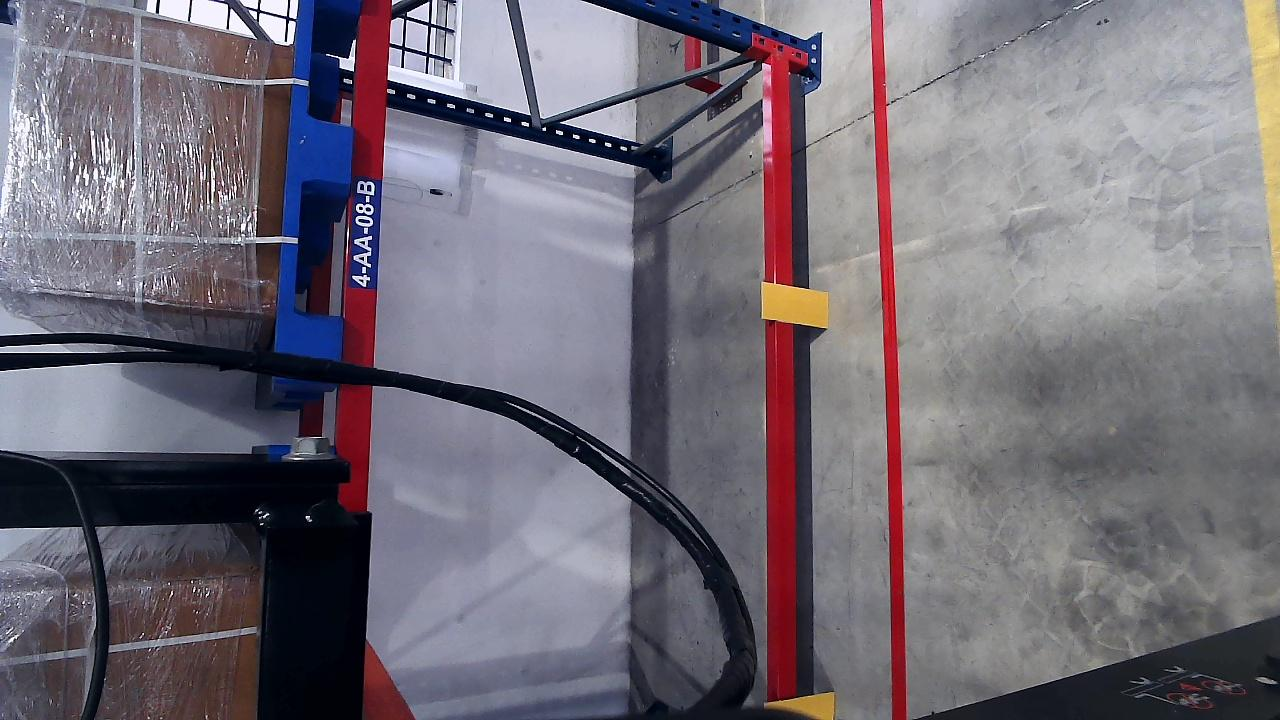h_rack: (338, 0, 396, 451), (765, 72, 800, 711)
orange_strip: (760, 281, 828, 327), (764, 692, 835, 719)
red_line: (868, 4, 907, 718)
small_pallet: (269, 0, 365, 360)
yellow_line: (1246, 1, 1279, 345)
